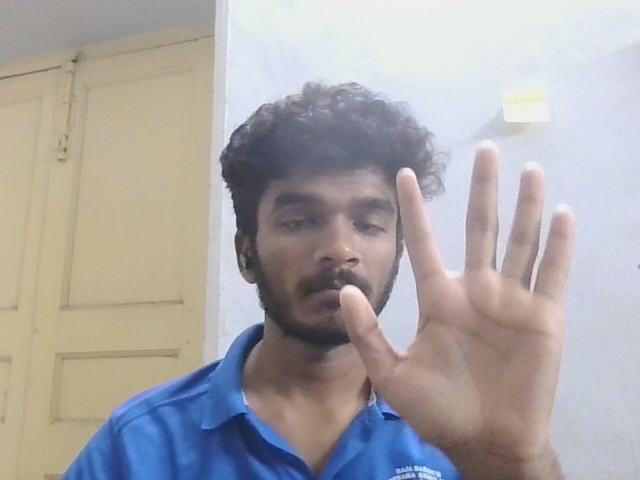Hello: (318, 132, 592, 442)
